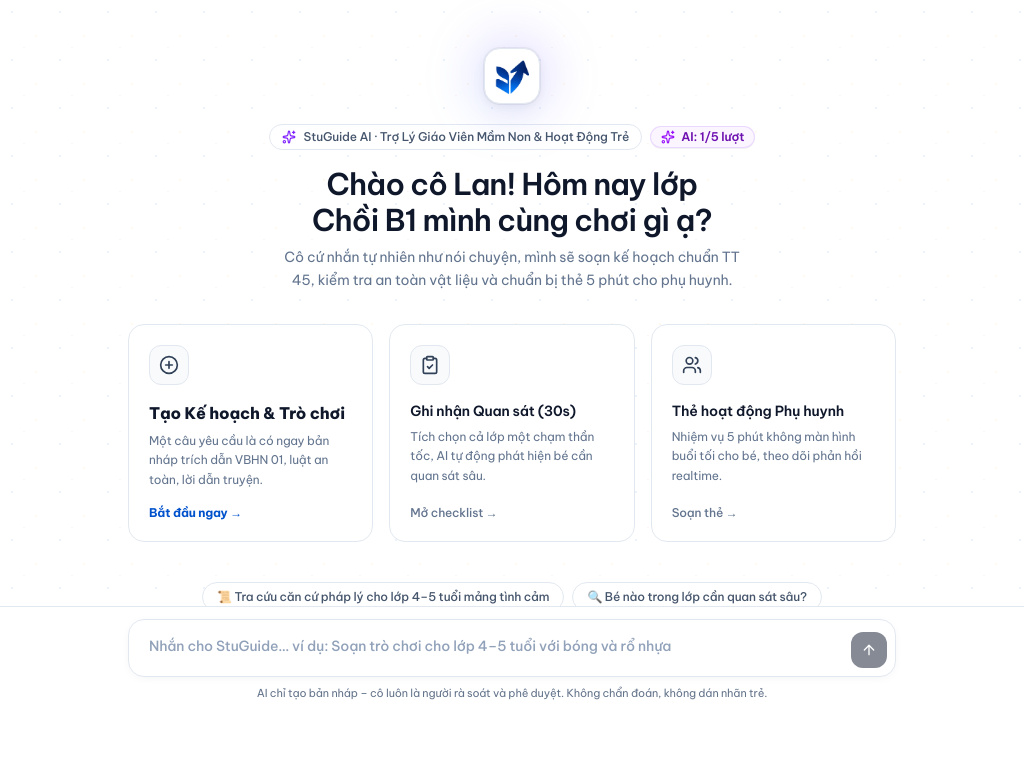
ChatWorkspace – thông báo lỗi khi gửi tin › 429 hết lượt: hiện thông báo hết lượt, không có nút gửi lại
Step 1. Type "Soạn trò chơi vận động" into the text box labelled "Nhắn cho StuGuide" → (490, 648), box [137,628,843,668]
Then press Enter
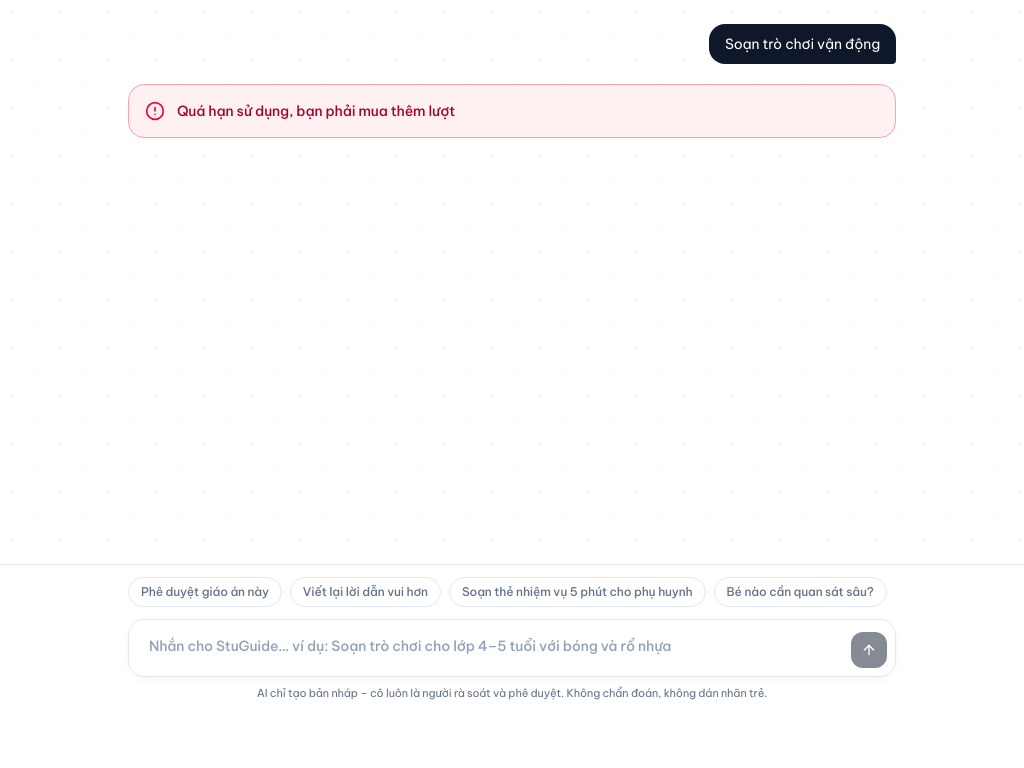
Result: the message reads "Quá hạn sử dụng, bạn phải mua thêm lượt" at [177,102,455,120]
